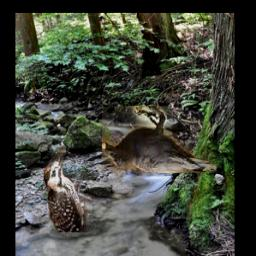Crow: (102, 106, 217, 173)
Woodpecker: (44, 145, 93, 232)
